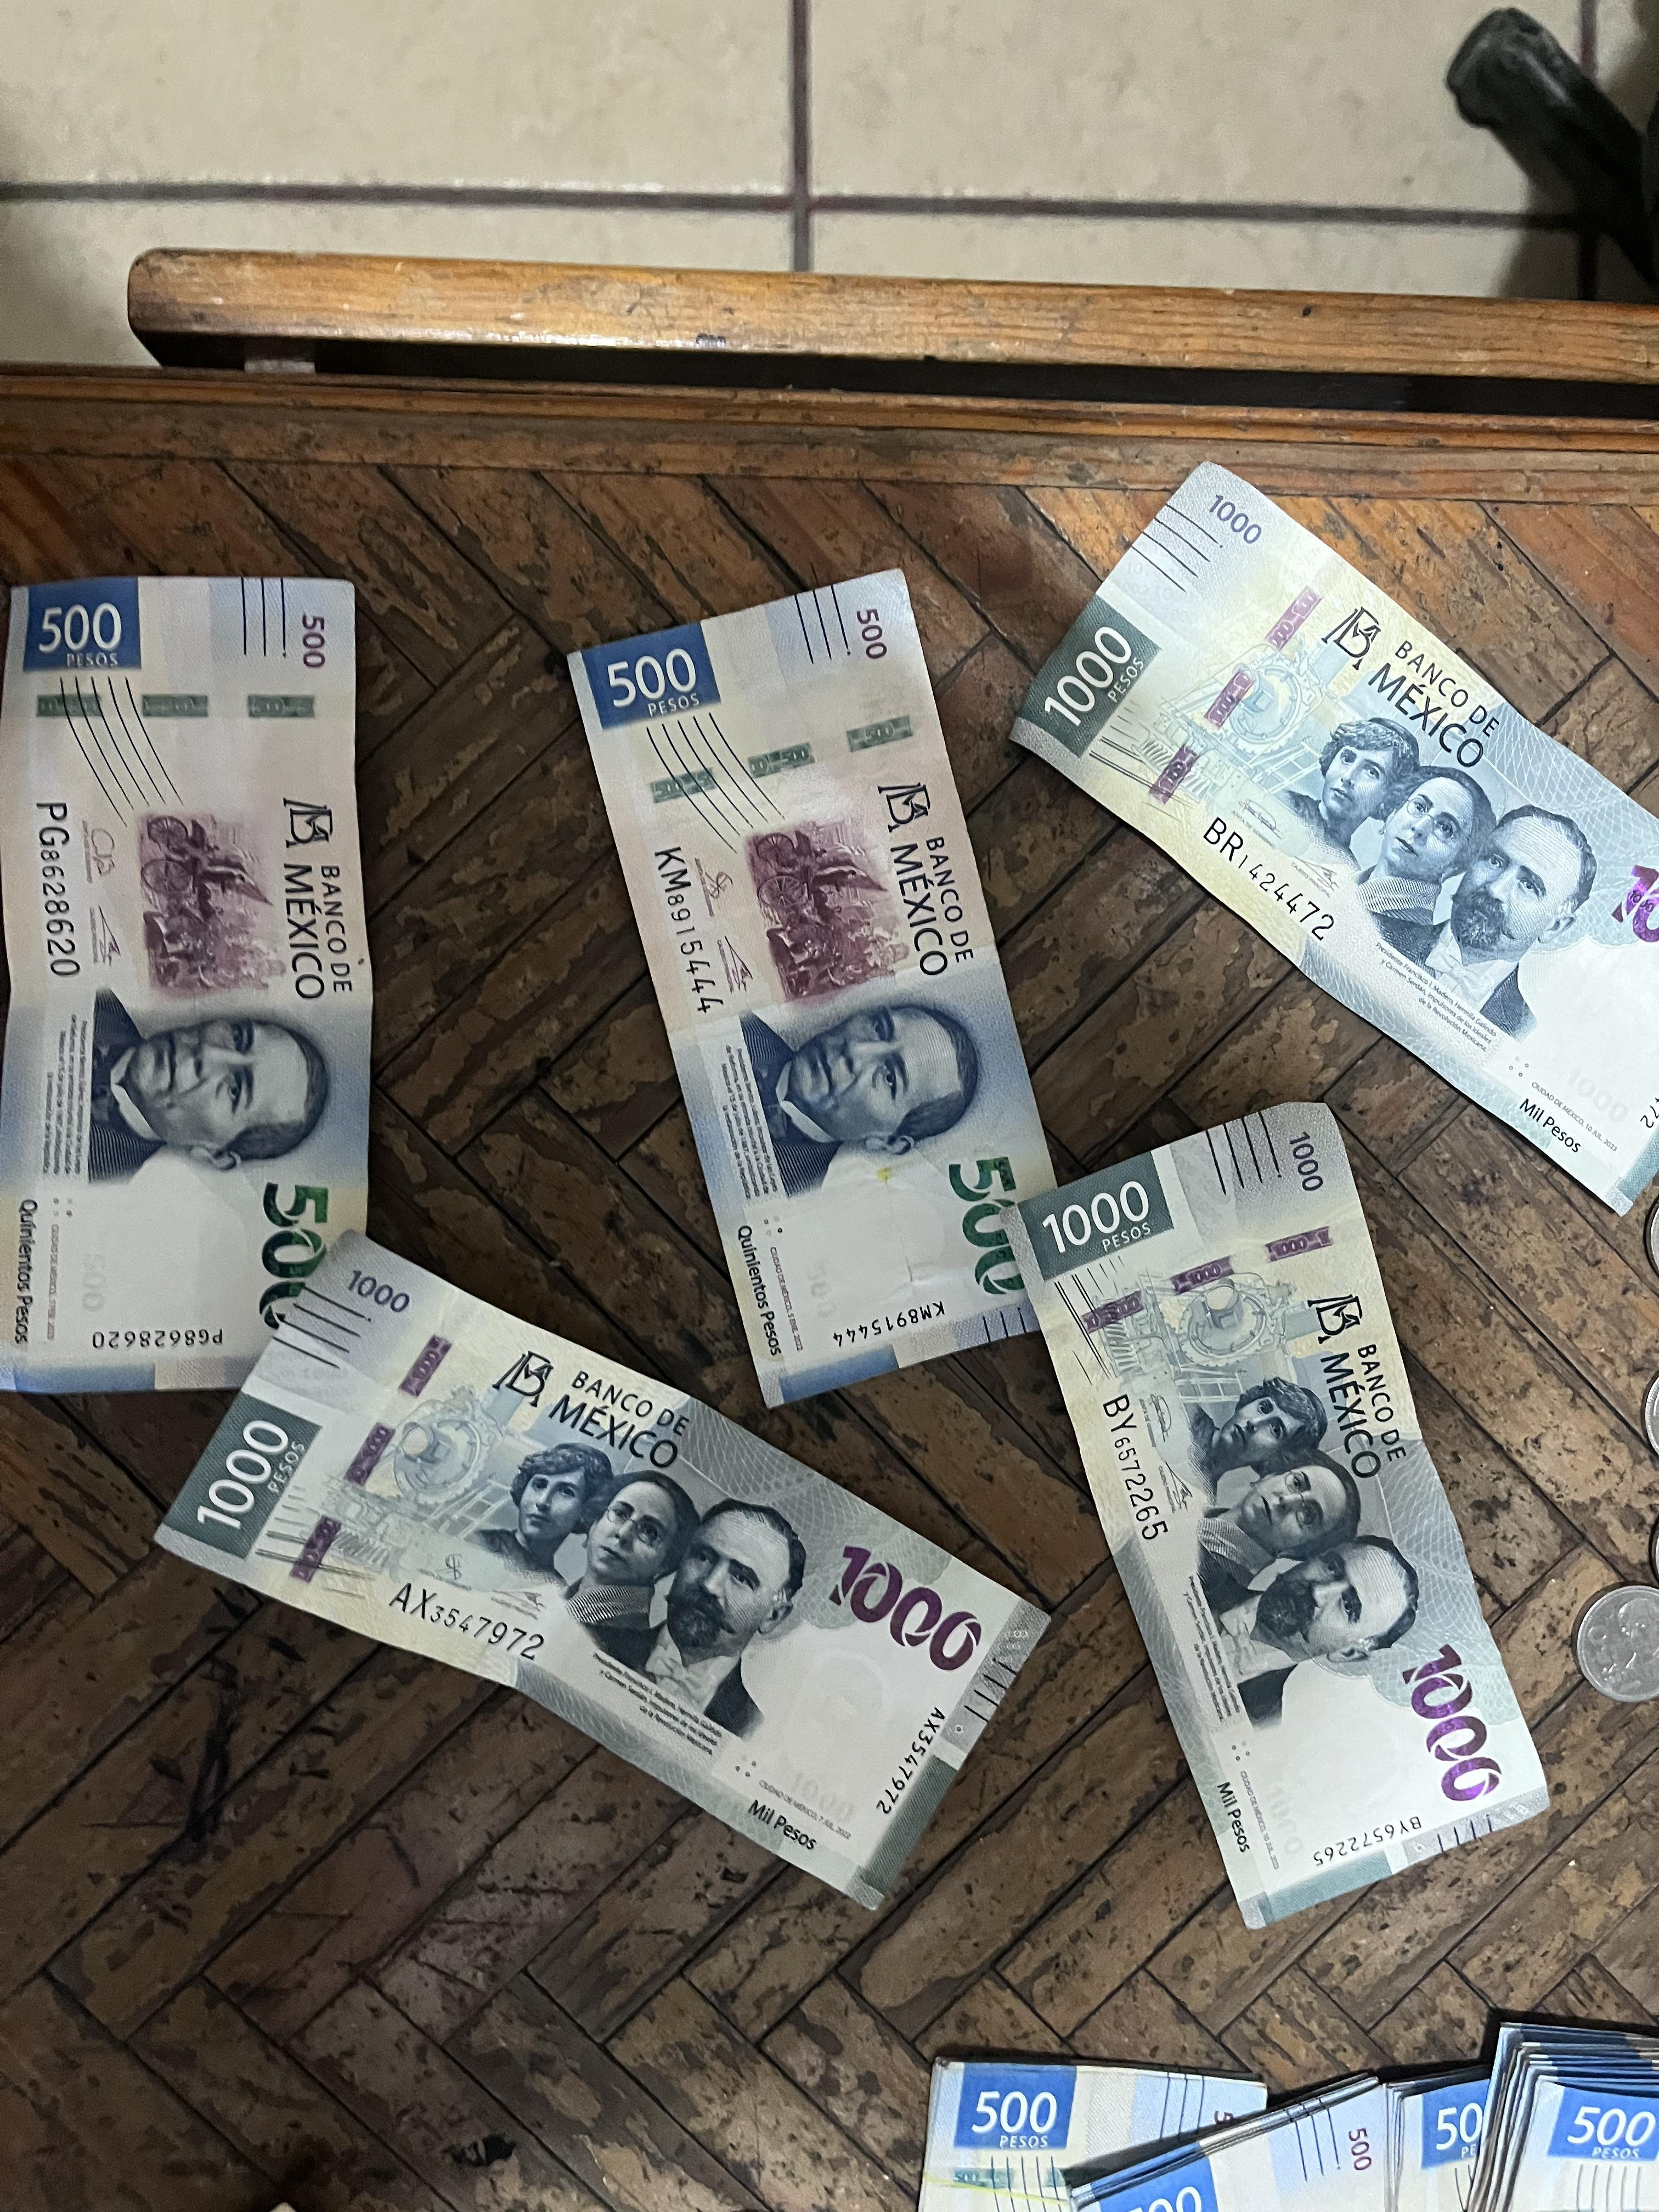1000: (150, 1240, 1051, 1914), (1006, 463, 1659, 1221), (1012, 1108, 1553, 1942)
500 nuevo: (568, 573, 1056, 1416), (0, 578, 375, 1388), (917, 2045, 1659, 2212)
